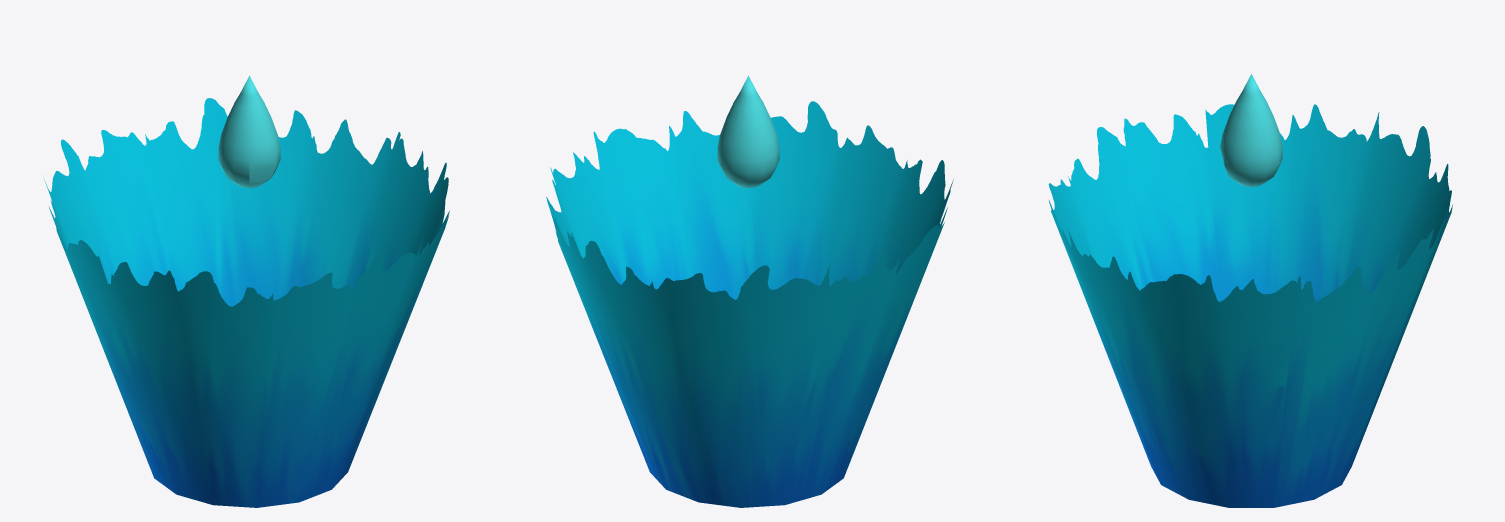
Rendered from telarport2.fbx.
The picture shows the model from 3 angles, left to right: view 1: azimuth 30°, elevation 25°; view 2: azimuth 150°, elevation 25°; view 3: azimuth 270°, elevation 25°; orthographic projection.
Visible parts, largest first — view 1: Cylinder.001, Sphere; view 2: Cylinder.001, Sphere; view 3: Cylinder.001, Sphere.
Boxes of the visible parts, x1=… form: Cylinder.001: x1=44, y1=98, x2=449, y2=507; Sphere: x1=218, y1=75, x2=280, y2=188; Cylinder.001: x1=546, y1=101, x2=953, y2=507; Sphere: x1=717, y1=75, x2=779, y2=188; Cylinder.001: x1=1048, y1=104, x2=1452, y2=507; Sphere: x1=1220, y1=74, x2=1282, y2=186.
Size of the model in its own units: 292 by 272 by 300.
2 materials, 1 textured.
